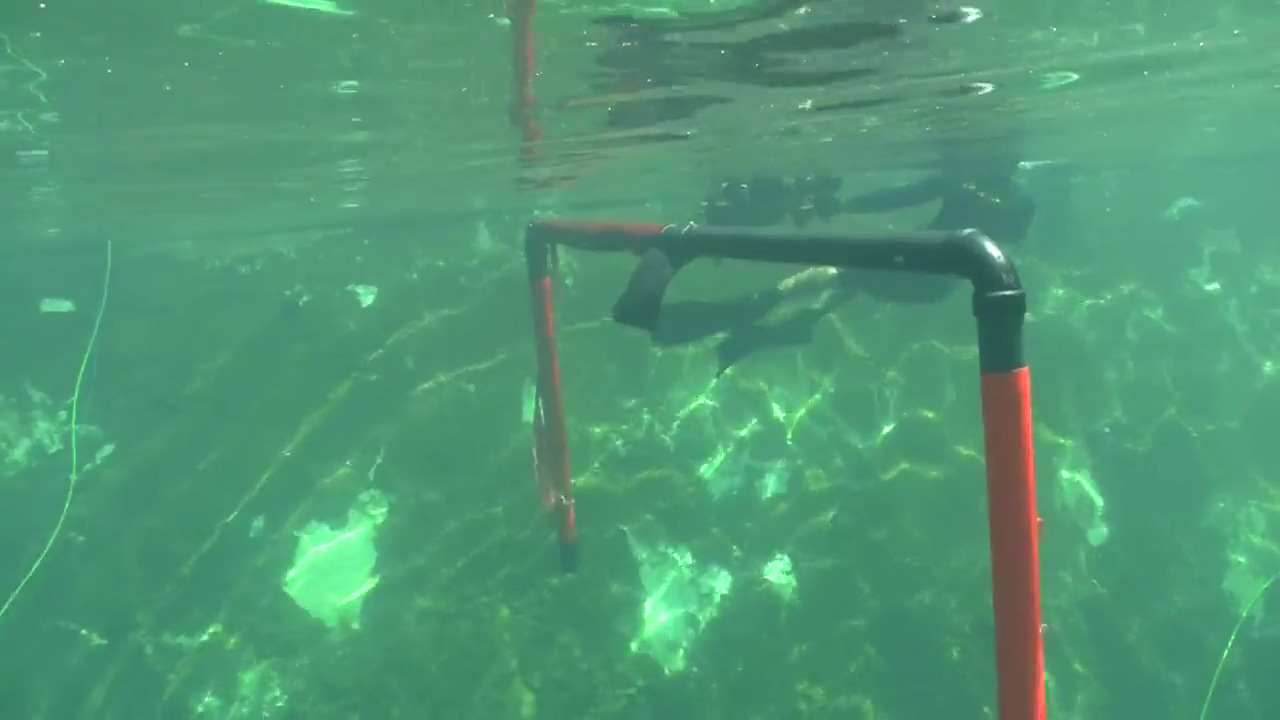gate: (514, 205, 1052, 720)
